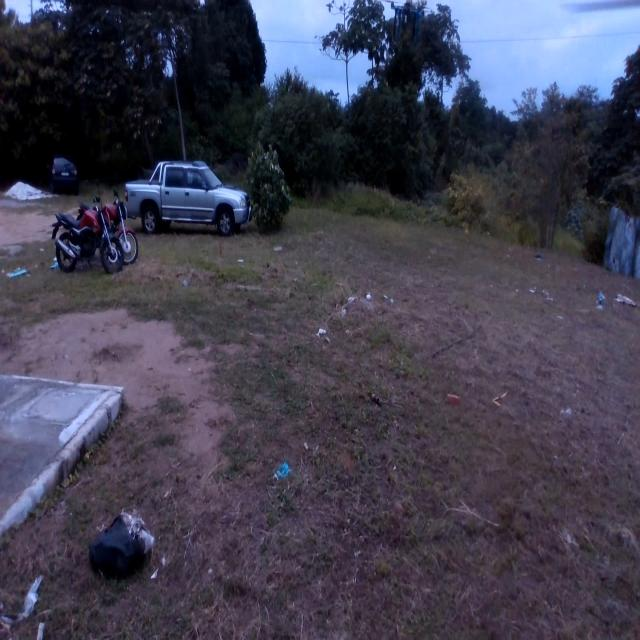-uav-: (384, 3, 431, 50)
